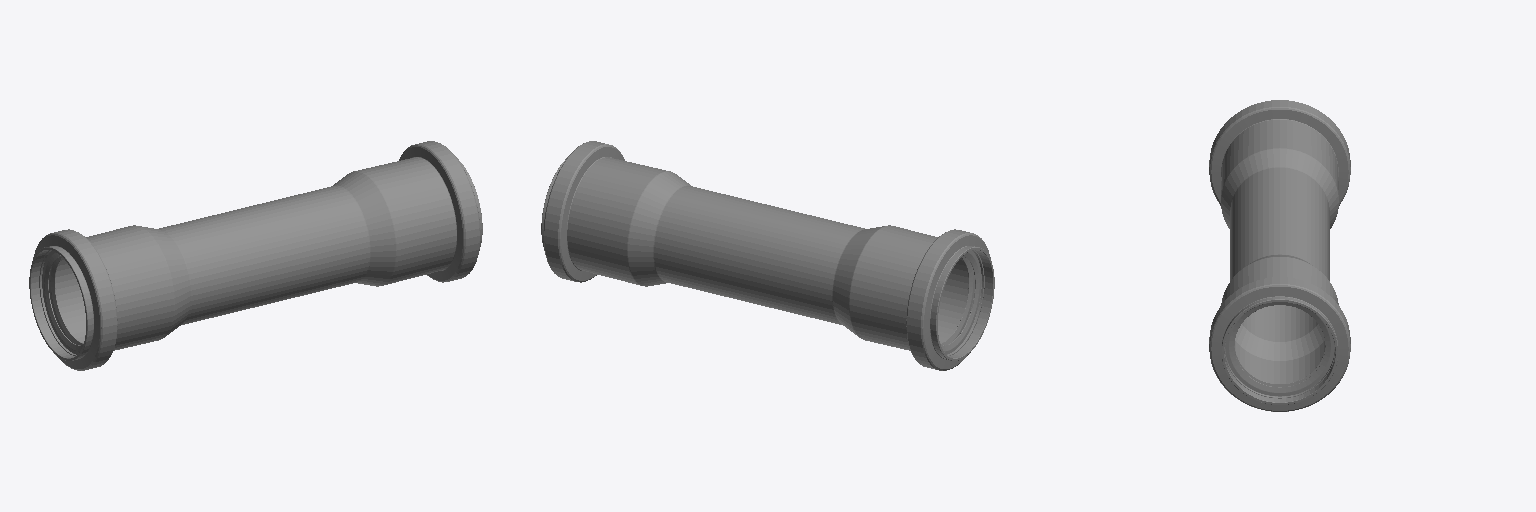
The model's file is pipes_80_08.obj.
3 renders of one model, left to right at view 1: azimuth 30°, elevation 25°; view 2: azimuth 150°, elevation 25°; view 3: azimuth 270°, elevation 25°, orthographic.
Visible parts, largest first — view 1: pipes_80_08; view 2: pipes_80_08; view 3: pipes_80_08.
Part boxes in pixels (x1,y1,x2,y2): pipes_80_08: (29, 141, 482, 370); pipes_80_08: (541, 141, 994, 370); pipes_80_08: (1209, 100, 1350, 411).
Bounding box in the file's own units: 83.3 × 25.82 × 25.82.